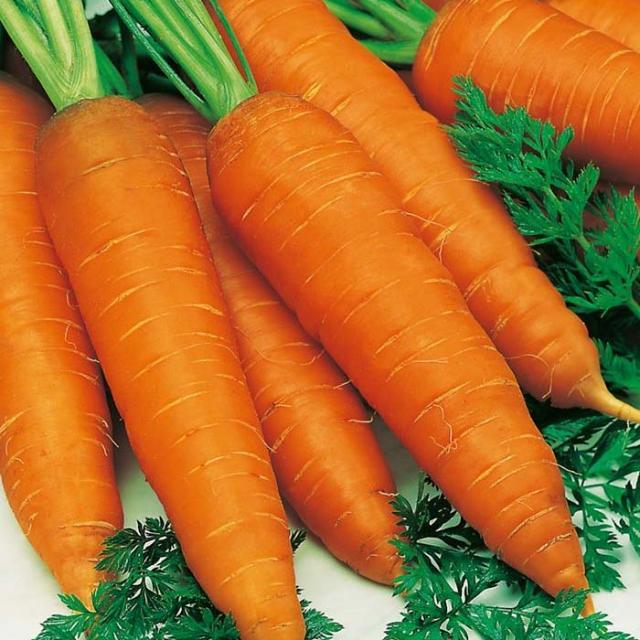carrot: (213, 92, 592, 621), (120, 60, 451, 606), (210, 1, 625, 422), (32, 90, 308, 640), (5, 67, 135, 619), (399, 1, 640, 169)
